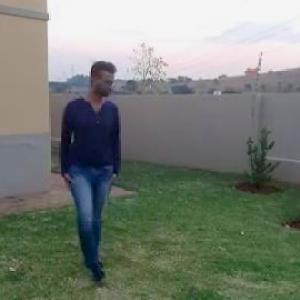follow: (58, 50, 139, 292)
